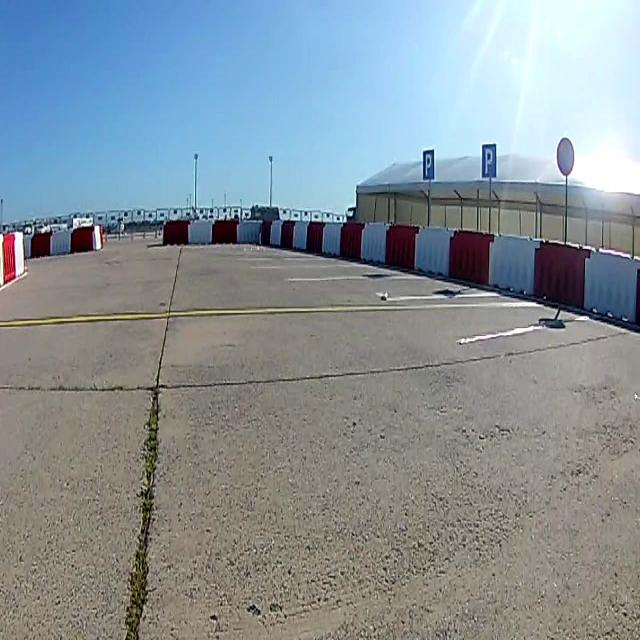park: (481, 143, 495, 176), (422, 148, 434, 180)
